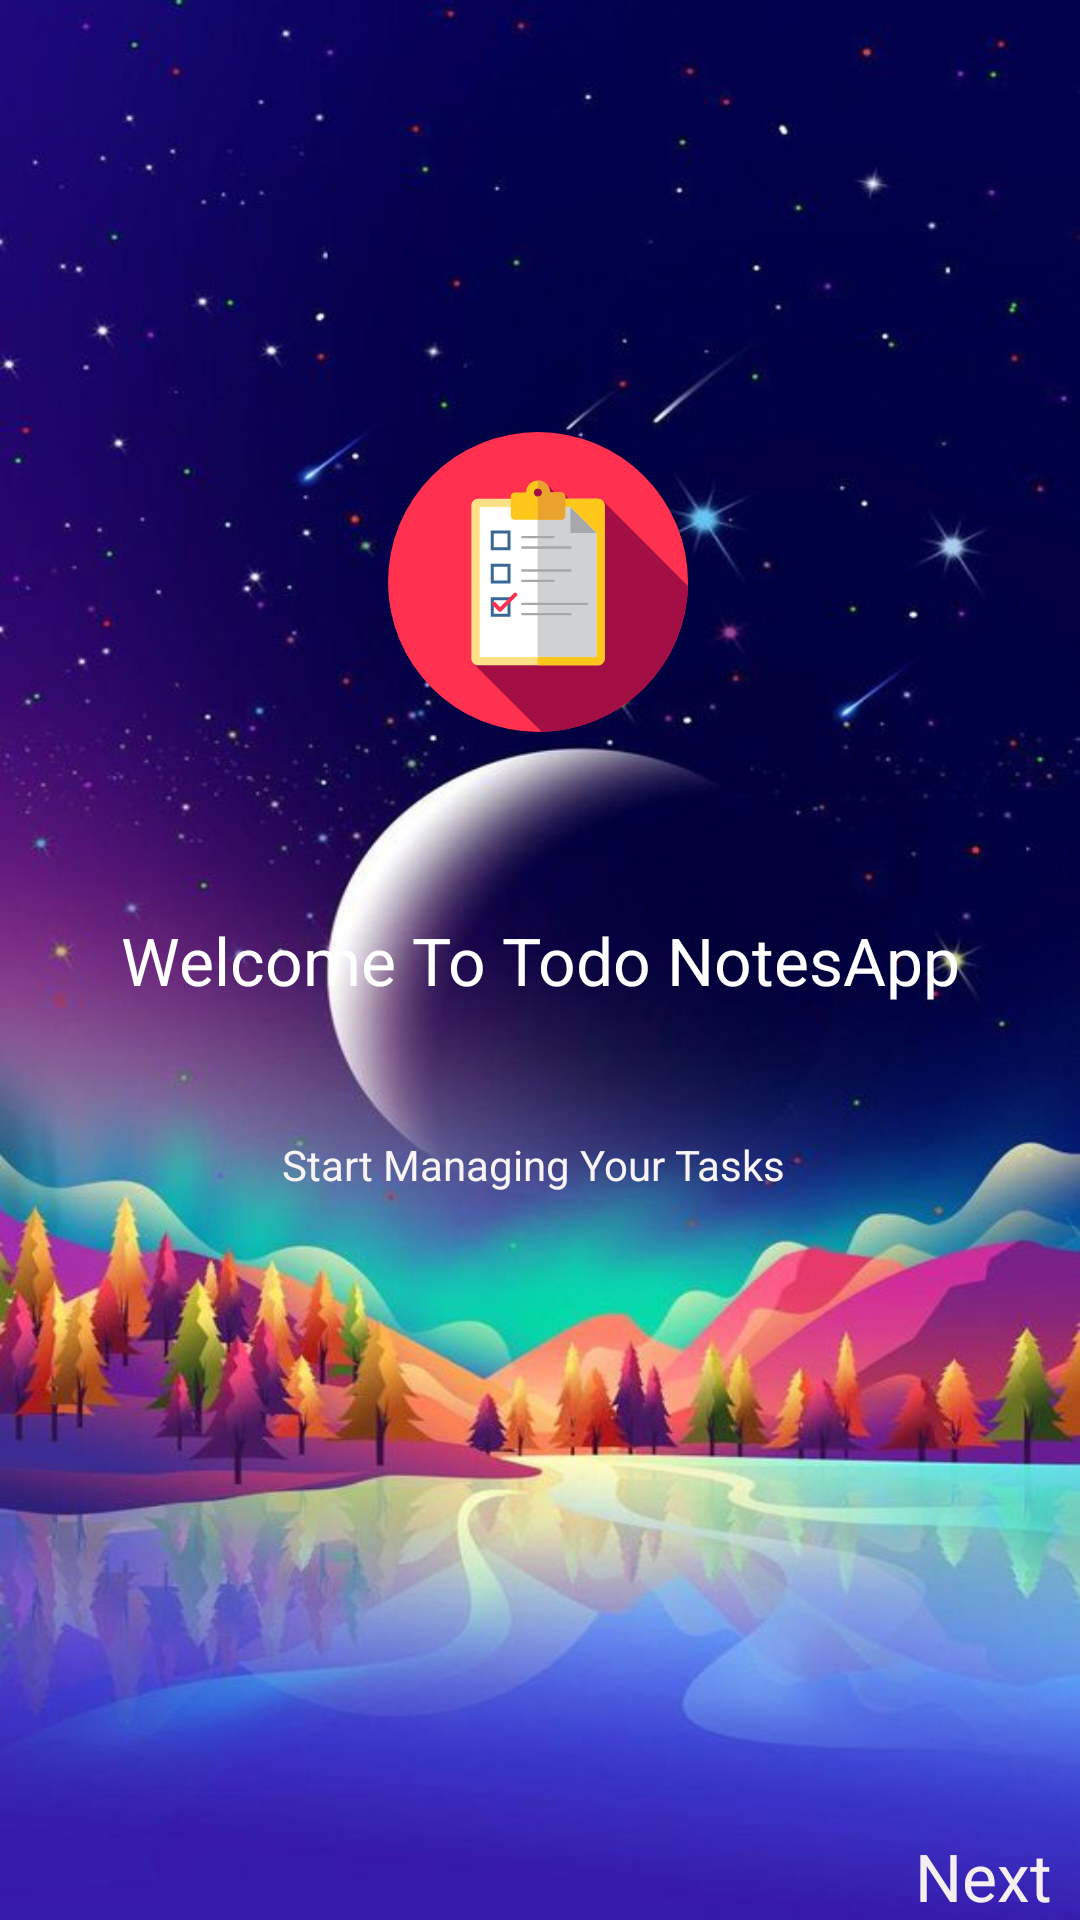

Screen size 1080px x 1920px. Icon name, then its center in pixels as point (x, y):
checklist: point (538, 582)
